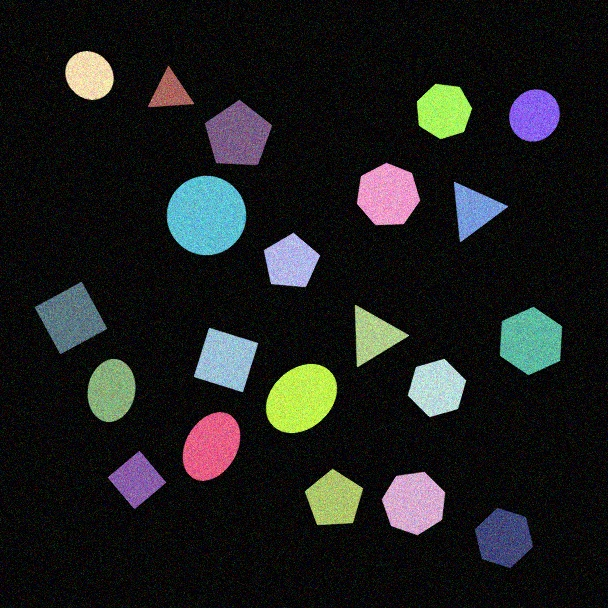Circulo: (166, 175, 247, 256), (508, 89, 561, 142), (65, 50, 114, 101)
Elipse: (265, 363, 338, 434), (182, 411, 241, 482), (87, 358, 136, 423)
Heptagono: (381, 471, 446, 536), (356, 162, 421, 226), (416, 83, 473, 140)
Hexagono: (499, 306, 563, 376), (474, 507, 534, 569), (407, 358, 467, 418)
Pentagono: (204, 99, 273, 166), (304, 468, 364, 526), (263, 232, 321, 288)
Quadrado: (34, 281, 108, 355), (193, 327, 259, 393), (107, 450, 167, 510)
Triangulo: (354, 304, 410, 368), (453, 181, 509, 243), (147, 66, 195, 108)
